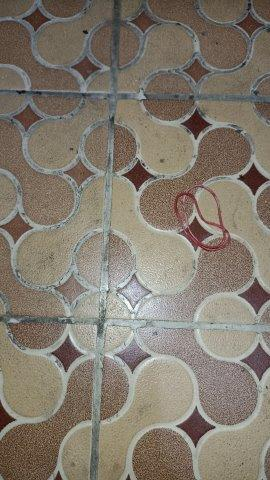karet: (174, 184, 230, 252)
